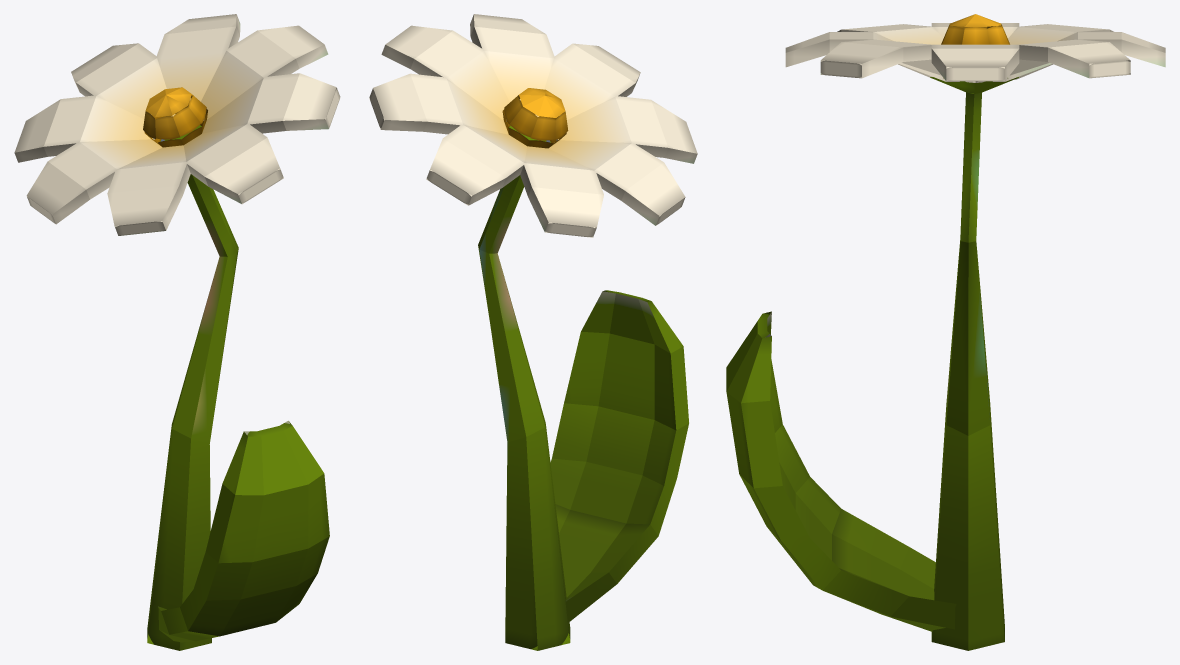
Rendered from Flowers1.fbx.
3 renders of one model, left to right at view 1: azimuth 30°, elevation 25°; view 2: azimuth 150°, elevation 25°; view 3: azimuth 270°, elevation 25°, orthographic. The views are drawn at different scales.
Visible parts, largest first — view 1: cuboid; view 2: cuboid; view 3: cuboid.
Boxes of the visible parts, x1,y1,x2,y2 form: cuboid: (14, 14, 340, 650); cuboid: (369, 14, 697, 650); cuboid: (726, 14, 1165, 650).
Bounding box in the file's own units: 15.48 × 30.27 × 18.79.
Materials: 1 (1 with a texture image).
